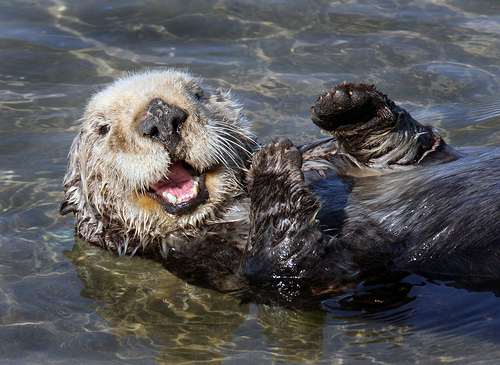otter: (57, 47, 499, 285)
